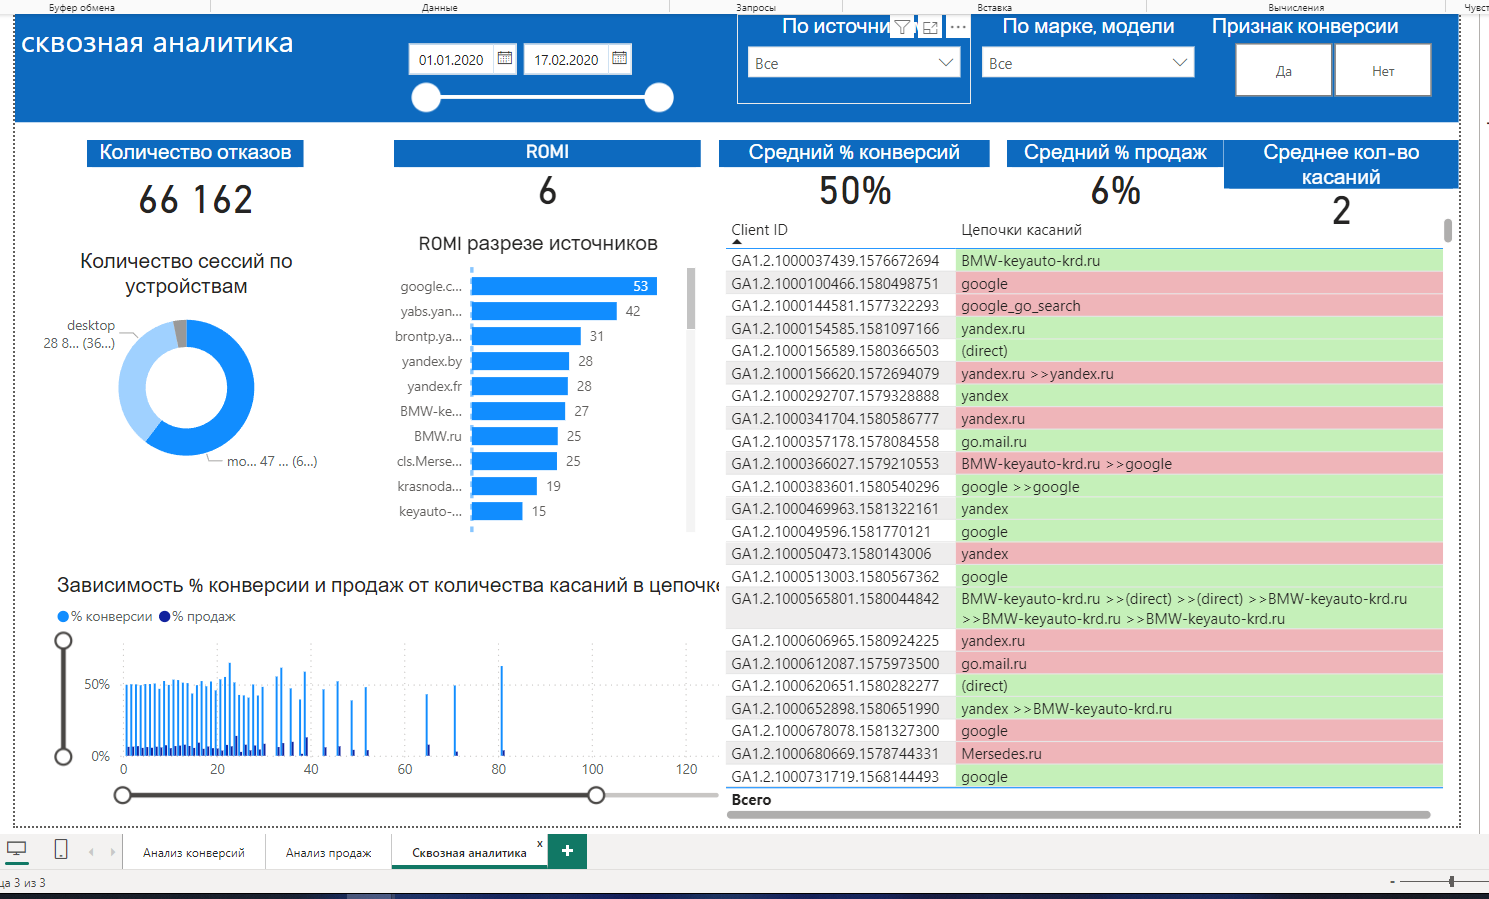

The dashboard page shown, as its layout file describes it:
{"tool":"powerbi","page":{"name":"Сквозная аналитика","canvas":[1280,720],"ordinal":2},"visuals":[{"type":"textbox","box":[0,0,1280,96],"z":0},{"type":"slicer","title":"По марке, модели","fields":{"Values":["Маркетинговые данные.Марка","Маркетинговые данные.Модель"]},"box":[848,0,208,80],"z":1000},{"type":"donutChart","title":"Количество сессий по устройствам","fields":{"Y":["Sum(Маркетинговые данные.Sessions)"],"Category":["Маркетинговые данные.Device Category"]},"box":[16,208,272,208],"z":2000},{"type":"card","title":"Количество отказов","fields":{"Values":["CountNonNull(Маркетинговые данные.Bounce Rate)"]},"box":[64,112,192,80],"z":3000},{"type":"slicer","title":"По источникам","fields":{"Values":["Маркетинговые данные.Medium","Маркетинговые данные.Source"]},"box":[640,0,208,80],"z":4000},{"type":"slicer","fields":{"Values":["Маркетинговые данные.Date"]},"box":[336,16,256,80],"z":5000},{"type":"card","title":"ROMI","fields":{"Values":["Client ID.ROMI"]},"box":[336,112,272,64],"z":6000},{"type":"clusteredBarChart","title":"ROMI  разрезе источников","fields":{"Category":["Маркетинговые данные.Source"],"Y":["Client ID.ROMI"]},"box":[320,192,288,272],"z":7000},{"type":"card","title":"Средний % конверсий","fields":{"Values":["Client ID.% конверсии"]},"box":[624,112,240,64],"z":8000},{"type":"card","title":"Средний % продаж","fields":{"Values":["Client ID.% продаж"]},"box":[880,112,192,64],"z":9000},{"type":"clusteredColumnChart","title":"Зависимость % конверсии и продаж  от  количества касаний в цепочке","fields":{"Category":["Client ID.Количество касаний"],"Y":["Client ID.% конверсии","Client ID.% продаж"]},"box":[32,496,608,208],"z":10000},{"type":"tableEx","fields":{"Values":["Client ID.Client ID","Client ID.Цепочки касаний"]},"box":[624,176,656,544],"z":11000},{"type":"slicer","title":"Признак конверсии","fields":{"Values":["Client ID.Признак конверсии"]},"box":[1056,0,224,80],"z":12000},{"type":"card","title":"Среднее кол-во касаний","fields":{"Values":["Avg(Client ID.Количество касаний)"]},"box":[1072,112,208,80],"z":13000}]}

Visuals, with their boxes on the page's 1280x720 design canvas (x1, y1, x2, y2). These are canvas units, not pixel positions in the 1489x899 screenshot, which may show the page scaled, cropped or inside an application window:
textbox: {"x1": 0, "y1": 0, "x2": 1280, "y2": 96}
"По марке, модели" slicer: {"x1": 848, "y1": 0, "x2": 1056, "y2": 80}
"Количество сессий по устройствам" donutChart: {"x1": 16, "y1": 208, "x2": 288, "y2": 416}
"Количество отказов" card: {"x1": 64, "y1": 112, "x2": 256, "y2": 192}
"По источникам" slicer: {"x1": 640, "y1": 0, "x2": 848, "y2": 80}
slicer - Маркетинговые данные.Date: {"x1": 336, "y1": 16, "x2": 592, "y2": 96}
"ROMI" card: {"x1": 336, "y1": 112, "x2": 608, "y2": 176}
"ROMI  разрезе источников" clusteredBarChart: {"x1": 320, "y1": 192, "x2": 608, "y2": 464}
"Средний % конверсий" card: {"x1": 624, "y1": 112, "x2": 864, "y2": 176}
"Средний % продаж" card: {"x1": 880, "y1": 112, "x2": 1072, "y2": 176}
"Зависимость % конверсии и продаж  от  количества касаний в цепочке" clusteredColumnChart: {"x1": 32, "y1": 496, "x2": 640, "y2": 704}
tableEx - Client ID.Client ID x Client ID.Цепочки касаний: {"x1": 624, "y1": 176, "x2": 1280, "y2": 720}
"Признак конверсии" slicer: {"x1": 1056, "y1": 0, "x2": 1280, "y2": 80}
"Среднее кол-во касаний" card: {"x1": 1072, "y1": 112, "x2": 1280, "y2": 192}
